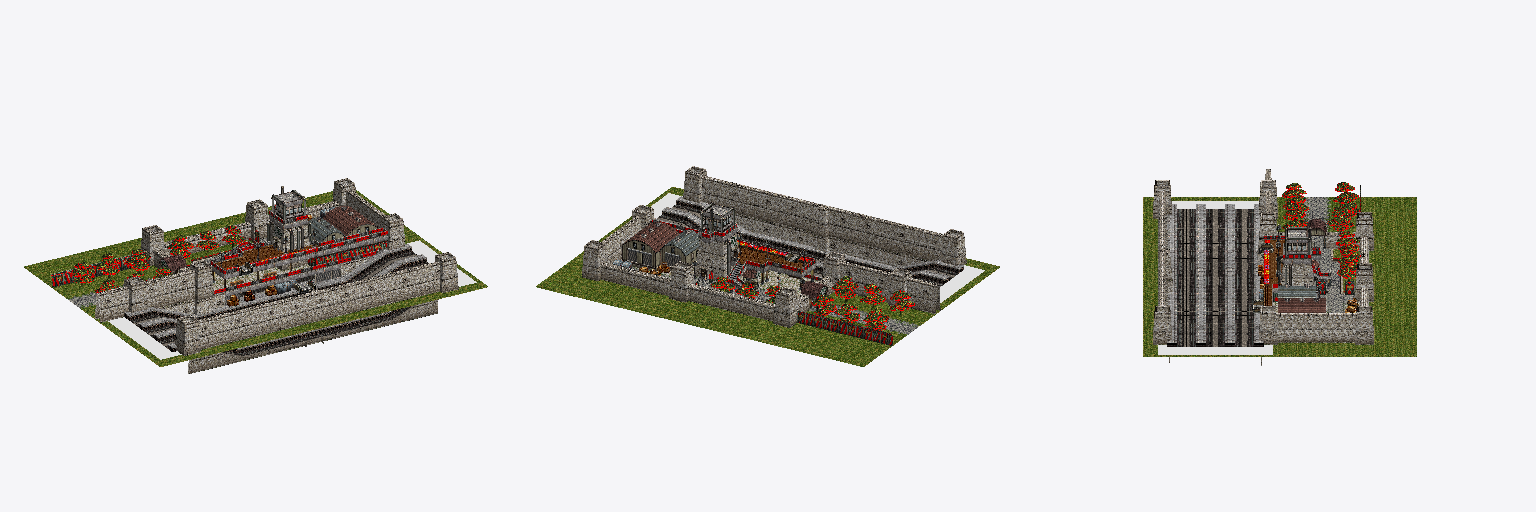
The picture shows the model from 3 angles: view 1: azimuth 30°, elevation 25°; view 2: azimuth 150°, elevation 25°; view 3: azimuth 270°, elevation 25°; orthographic projection.
Parts seen in each view (by area): view 1: Object.1; view 2: Object.1; view 3: Object.1.
Part boxes in pixels (x1,y1,x2,y2): Object.1: (24,178,487,373); Object.1: (536,166,999,366); Object.1: (1143,169,1416,365).
Bounding box in the file's own units: 78.94 × 22.09 × 57.15.
19 materials, 18 textured.